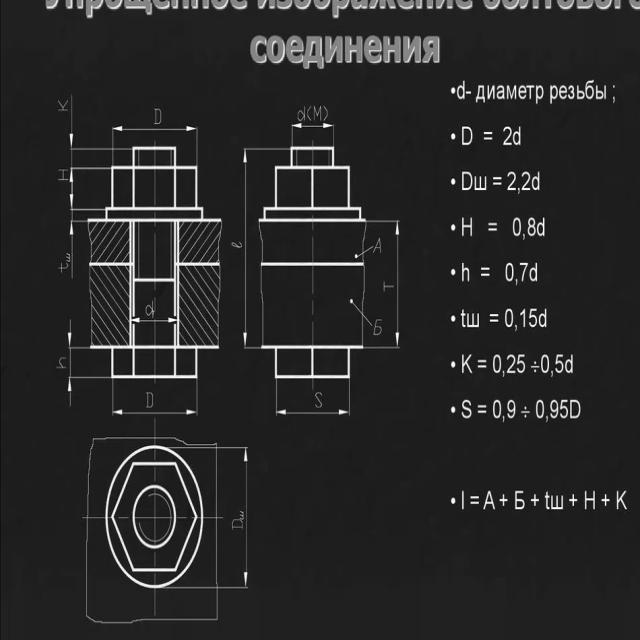marking_line: (242, 450, 250, 588), (243, 151, 248, 345), (113, 407, 197, 418), (394, 223, 401, 344), (113, 126, 197, 133), (277, 408, 349, 416), (67, 328, 72, 408), (69, 93, 76, 150), (293, 122, 333, 131), (67, 174, 76, 209)
numeric: (490, 392, 520, 424), (490, 353, 528, 378), (536, 397, 569, 424), (502, 305, 538, 328), (506, 166, 532, 197), (504, 258, 529, 285), (541, 353, 567, 378), (513, 216, 536, 243), (500, 123, 524, 148)
